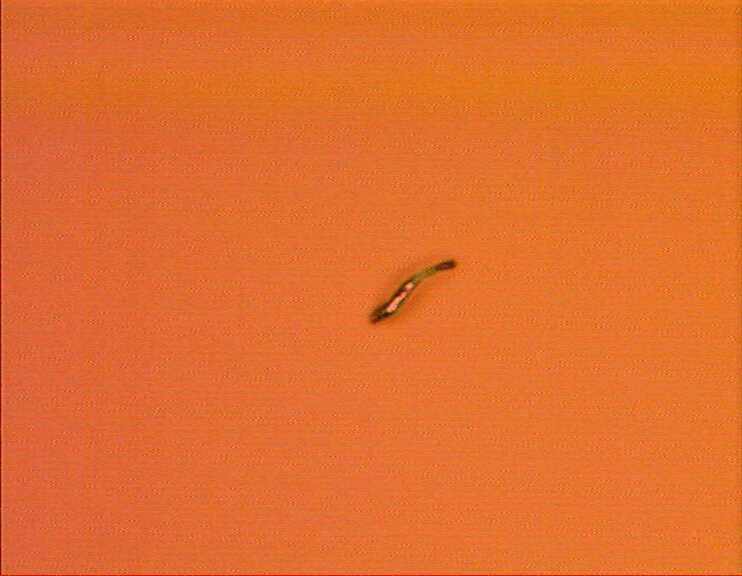PIQ PARTICLE: (362, 253, 464, 329)
